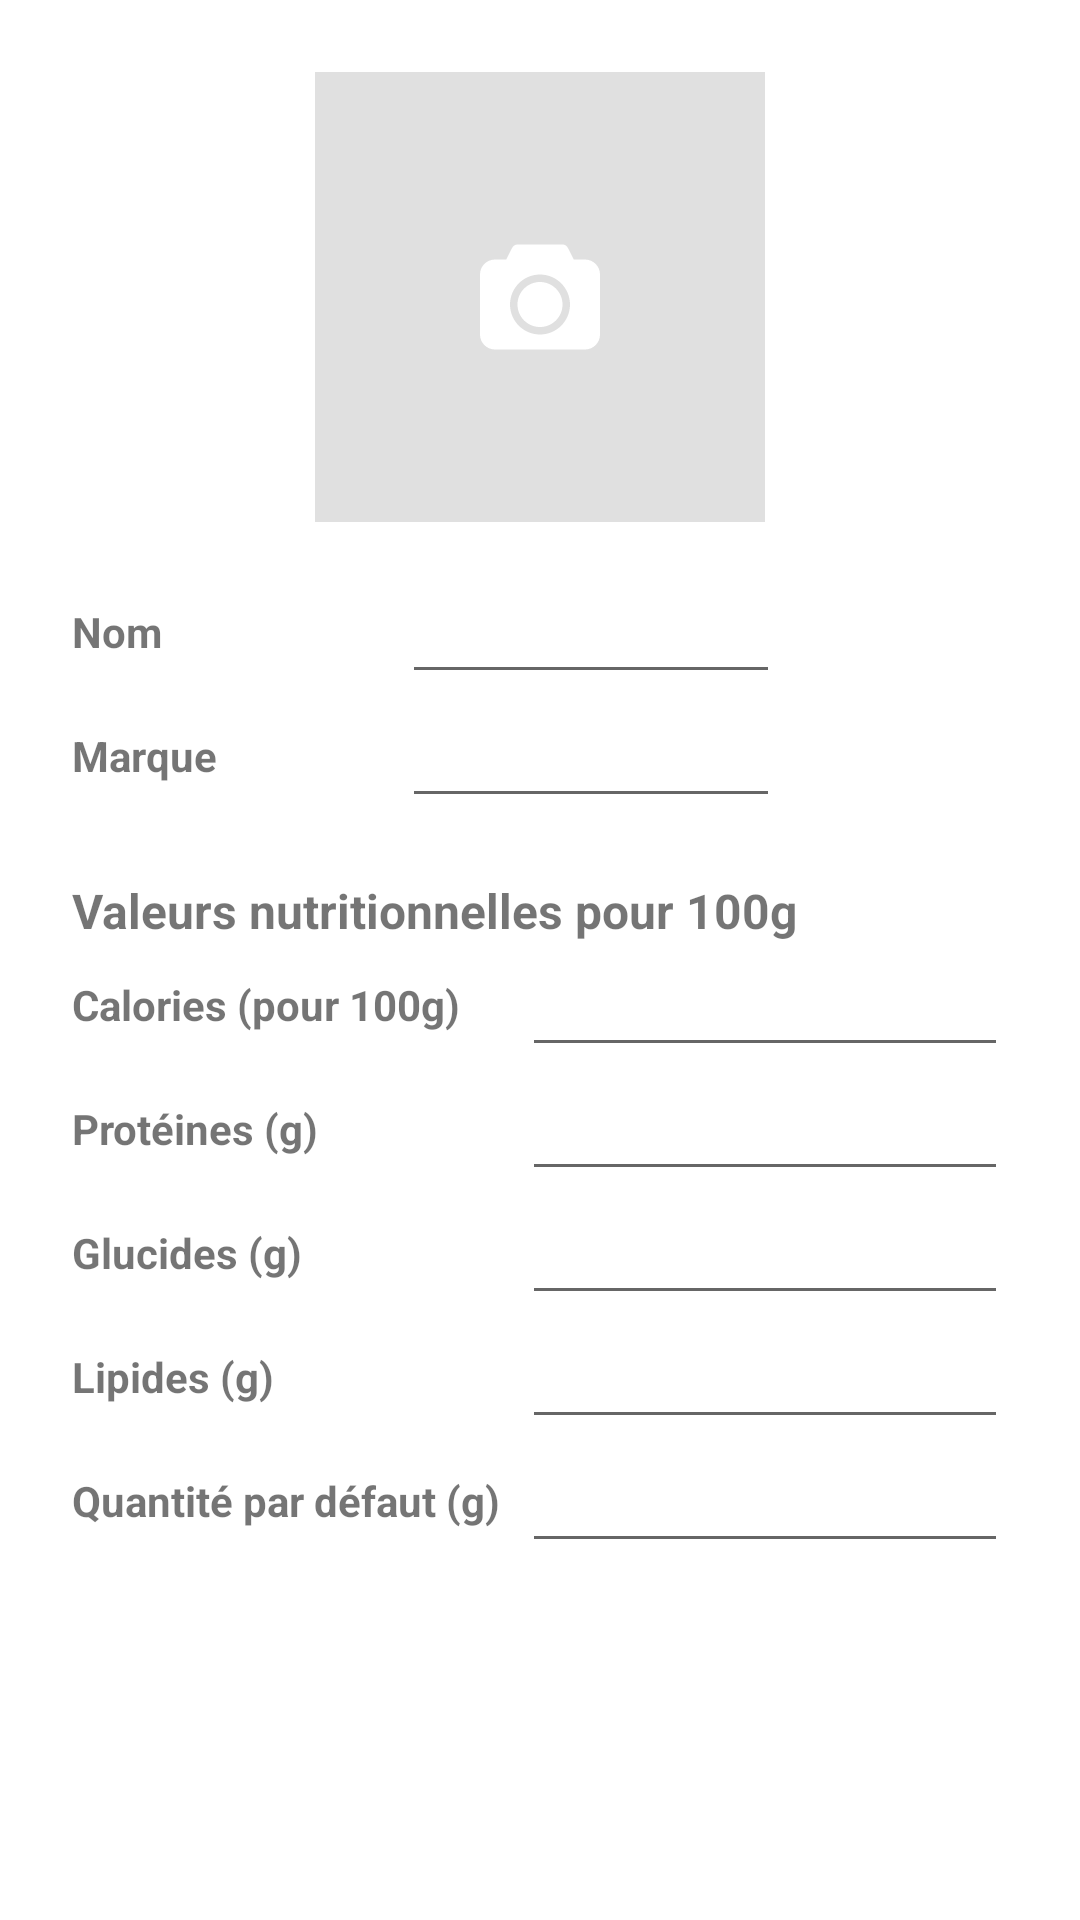

Icon click points for this 1080 x 1920 phone screenshot, format (x,y):
Prendre une photo: (540,297)
